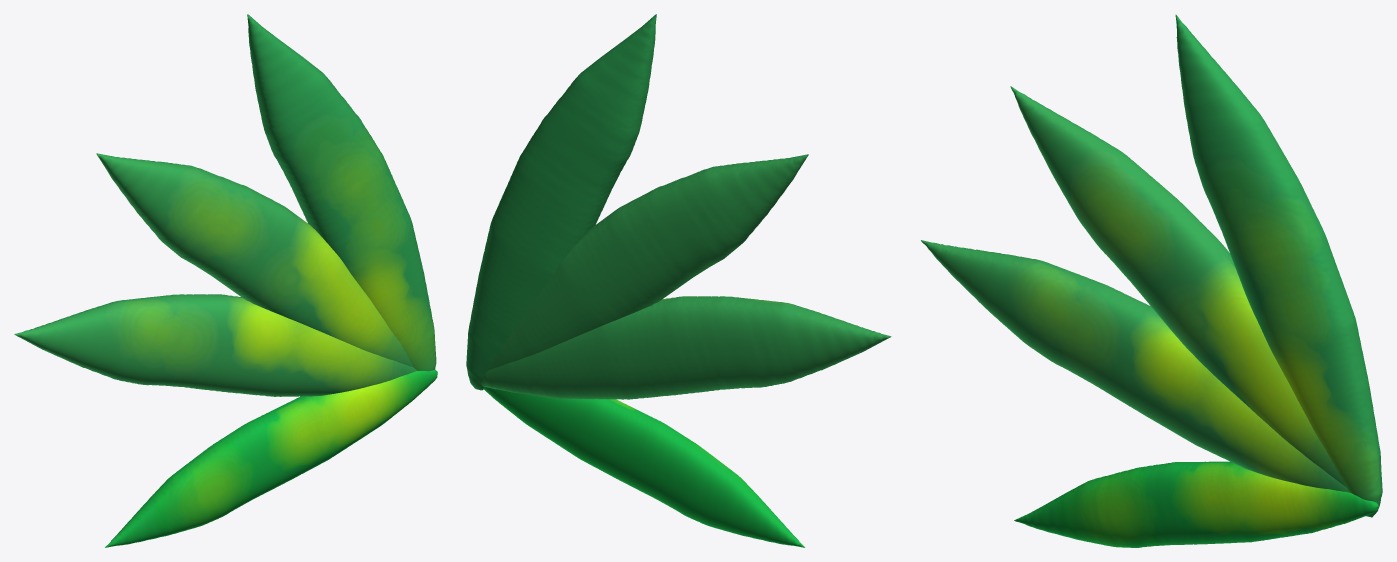
Rendered from daun.fbx.
3 renders of one model, left to right at view 1: azimuth 30°, elevation 25°; view 2: azimuth 150°, elevation 25°; view 3: azimuth 330°, elevation 25°, orthographic. The views are drawn at different scales.
Visible parts, largest first — view 1: node_id11, node_id8, node_id5, node_id14; view 2: node_id11, node_id8, node_id5, node_id14; view 3: node_id11, node_id5, node_id8, node_id14.
Part boxes in pixels (x1,y1,x2,y2): node_id11: [247, 14, 436, 371]; node_id8: [14, 294, 416, 396]; node_id5: [96, 153, 413, 367]; node_id14: [105, 369, 437, 547]; node_id11: [466, 14, 656, 390]; node_id8: [481, 296, 891, 399]; node_id5: [489, 154, 808, 369]; node_id14: [483, 387, 805, 547]; node_id11: [1175, 14, 1382, 517]; node_id5: [1010, 86, 1345, 486]; node_id8: [921, 240, 1349, 492]; node_id14: [1014, 461, 1378, 547].
Bounding box in the file's own units: 0.3588 × 0.4055 × 0.0357.
Materials: 4 (4 with a texture image).
